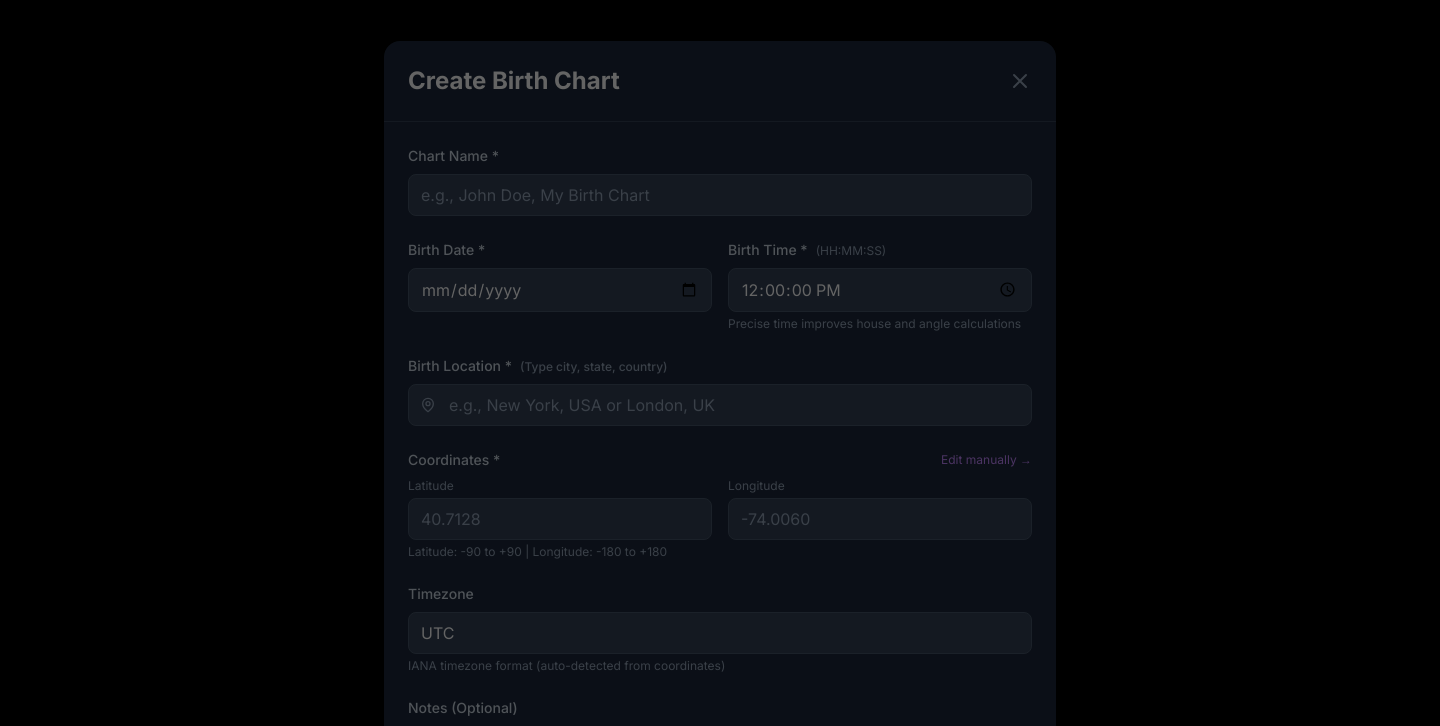
Scenario: BirthChartForm - Geocoding Integration › Auto-population › should show green checkmark when auto-filled
The width and height of the screenshot is (1440, 726).
Type "Paris" into the field with placeholder "e.g., New York, USA or London, UK" at (720, 404), box [408, 384, 1032, 426]
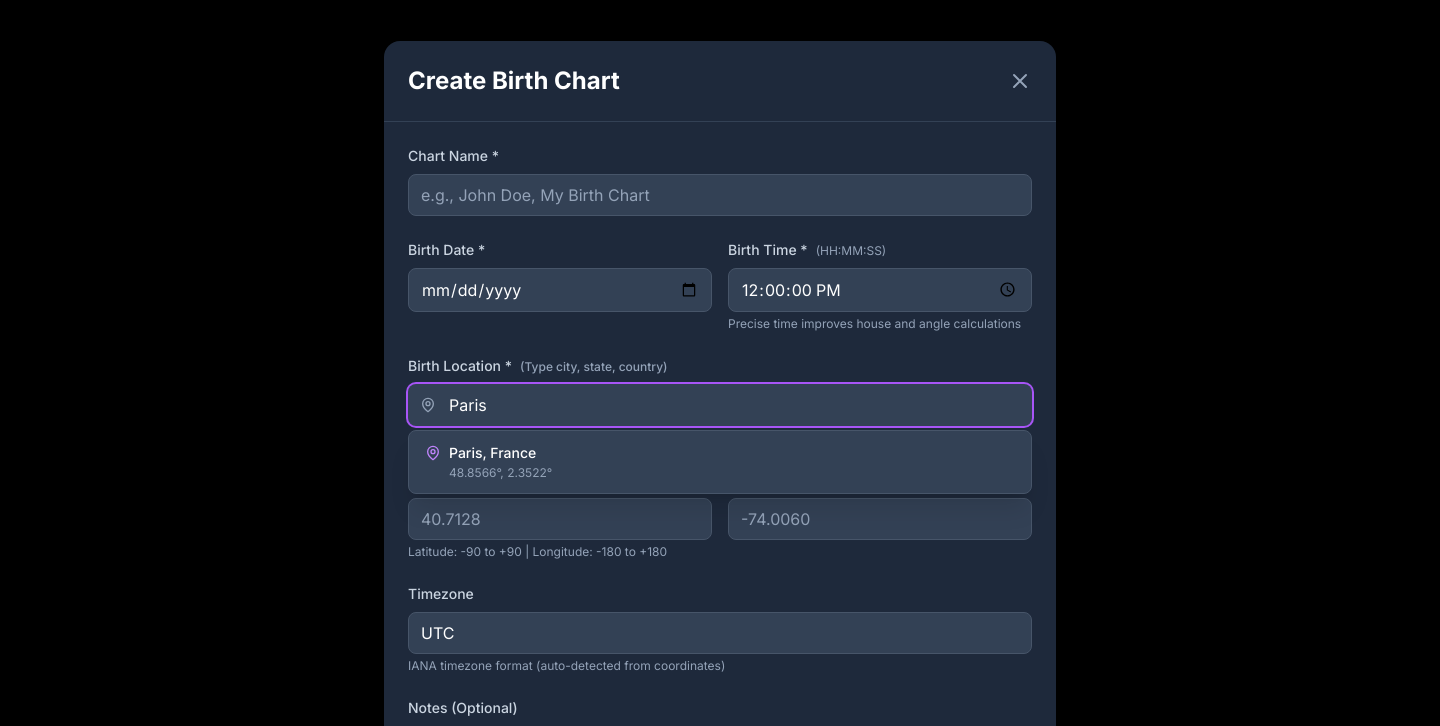
Expected: the text "Paris, France" is shown
Click the text "Paris, France" at (493, 452), box [449, 444, 536, 460]
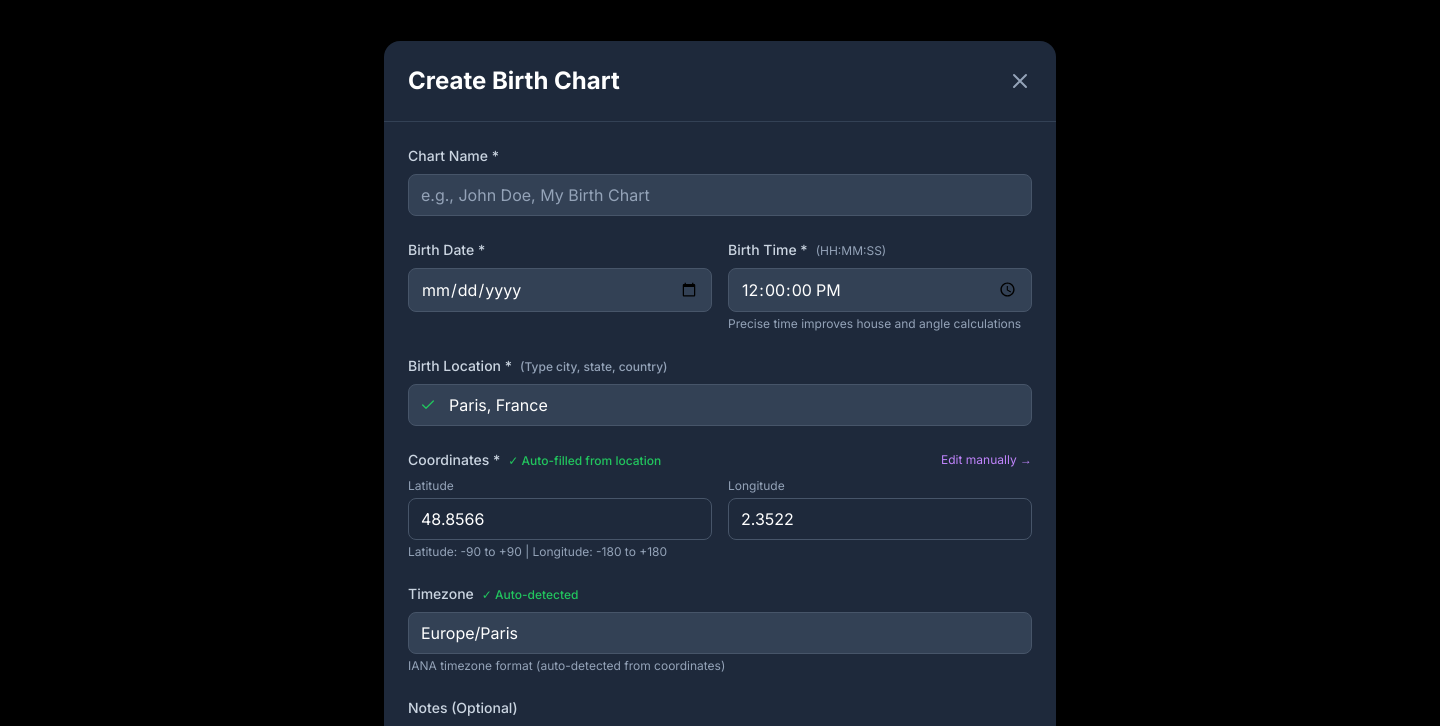
Expected: the text "✓ Auto-filled from location" is shown, [508, 452, 661, 468]
